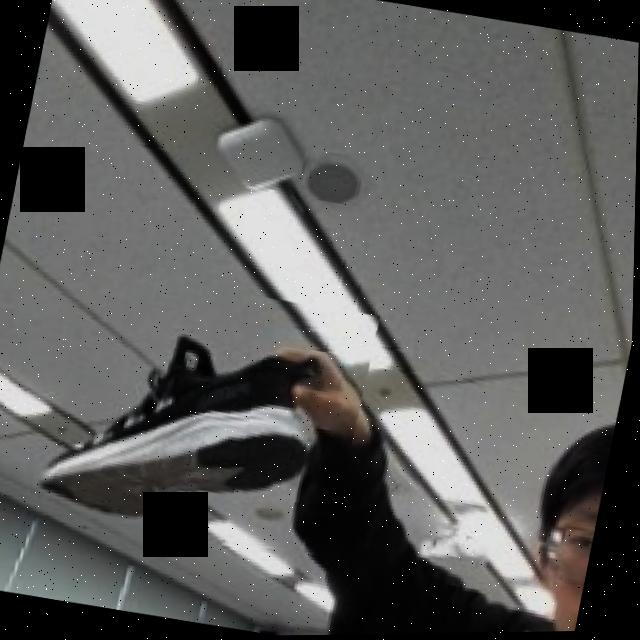shoe: (0, 255, 382, 570)
